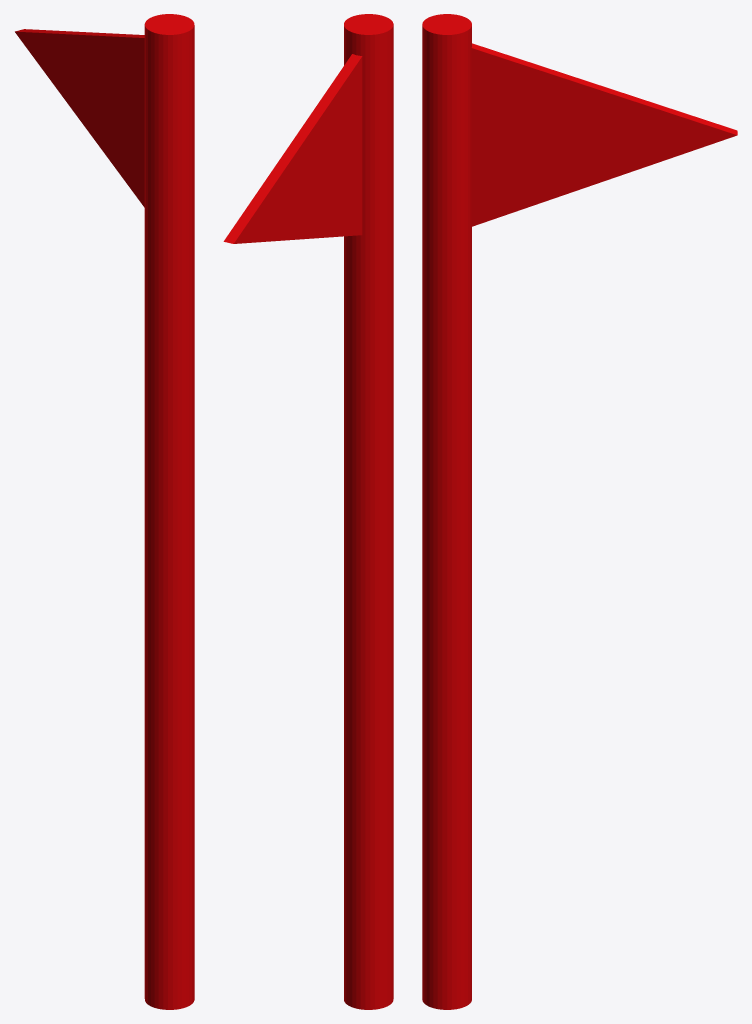
The model's file is golf_P.fbx.
3 renders of one model, left to right at view 1: azimuth 30°, elevation 25°; view 2: azimuth 150°, elevation 25°; view 3: azimuth 270°, elevation 25°, orthographic.
Parts seen in each view (by area): view 1: Cylinder; view 2: Cylinder; view 3: Cylinder.
Part boxes in pixels (box(x1,y1,x2,y2)): Cylinder: box(15, 14, 194, 1009); Cylinder: box(223, 14, 393, 1009); Cylinder: box(422, 14, 737, 1009).
Size of the model in its own units: 4.15 by 89.62 by 26.27.
